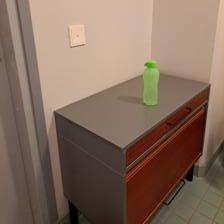bottle: (142, 59, 159, 106)
